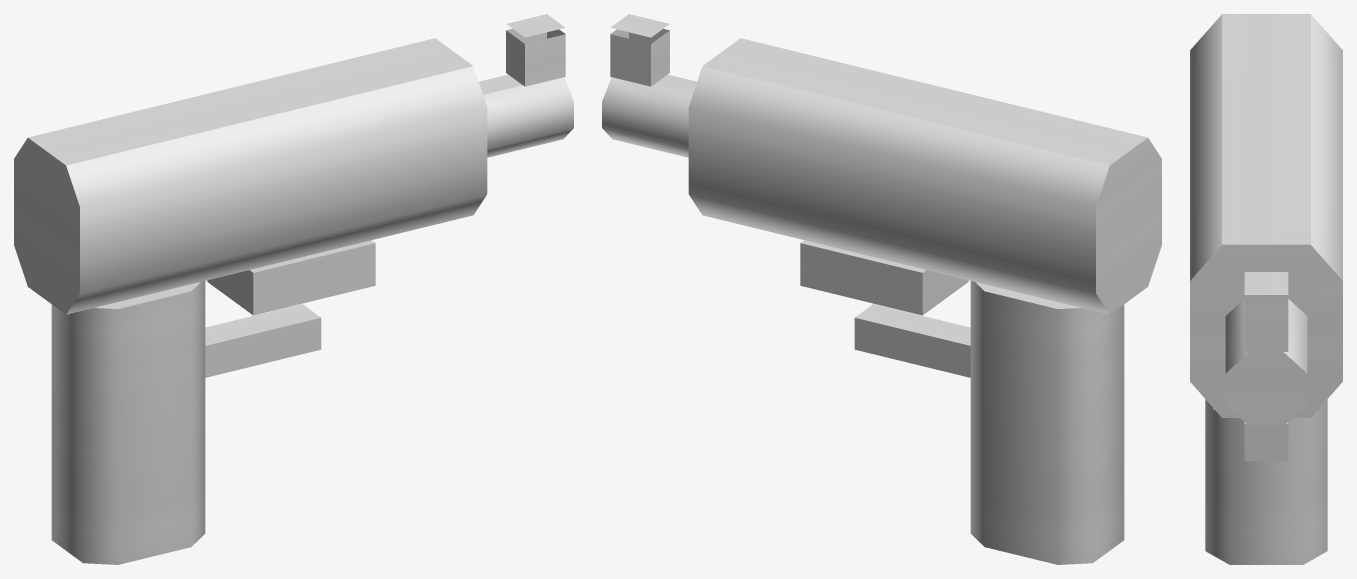
Rendered from pistol.obj.
The picture shows the model from 3 angles, left to right: view 1: azimuth 30°, elevation 25°; view 2: azimuth 150°, elevation 25°; view 3: azimuth 270°, elevation 25°; orthographic projection. The views are drawn at different scales.
Parts seen in each view (by area): view 1: receiver, stock_or_grip, grip_or_magazine, barrel_muzzle, butt_or_trigger, front_sight; view 2: receiver, stock_or_grip, grip_or_magazine, barrel_muzzle, butt_or_trigger, front_sight; view 3: receiver, stock_or_grip, barrel_muzzle, front_sight, butt_or_trigger.
Part boxes in pixels (left/top/right/bottom): receiver: left=14, top=38, right=487, bottom=314; stock_or_grip: left=51, top=281, right=205, bottom=564; grip_or_magazine: left=207, top=240, right=375, bottom=315; barrel_muzzle: left=479, top=74, right=573, bottom=157; butt_or_trigger: left=205, top=304, right=321, bottom=377; front_sight: left=506, top=14, right=565, bottom=86; receiver: left=688, top=38, right=1161, bottom=314; stock_or_grip: left=970, top=281, right=1124, bottom=564; grip_or_magazine: left=800, top=240, right=968, bottom=315; barrel_muzzle: left=602, top=74, right=696, bottom=157; butt_or_trigger: left=854, top=304, right=970, bottom=377; front_sight: left=610, top=14, right=669, bottom=86; receiver: left=1190, top=14, right=1342, bottom=417; stock_or_grip: left=1205, top=399, right=1327, bottom=564; barrel_muzzle: left=1225, top=299, right=1307, bottom=426; front_sight: left=1244, top=272, right=1288, bottom=351; butt_or_trigger: left=1244, top=422, right=1288, bottom=460.
Size of the model in its own units: 0.25 by 0.193 by 0.056.
